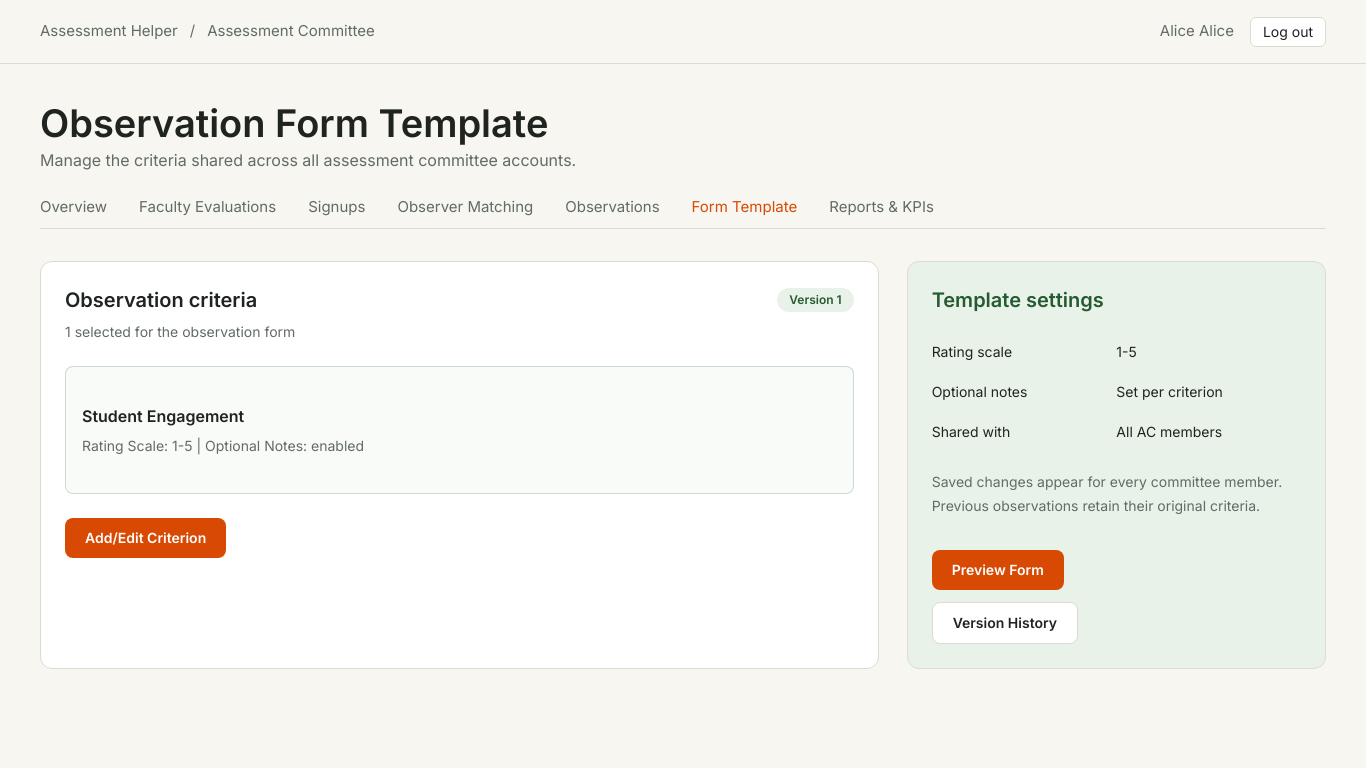
Test case: keeps unsaved edits when another committee member has saved first
Click the button "Add/Edit Criterion" at (146, 538), box [65,518,226,558]
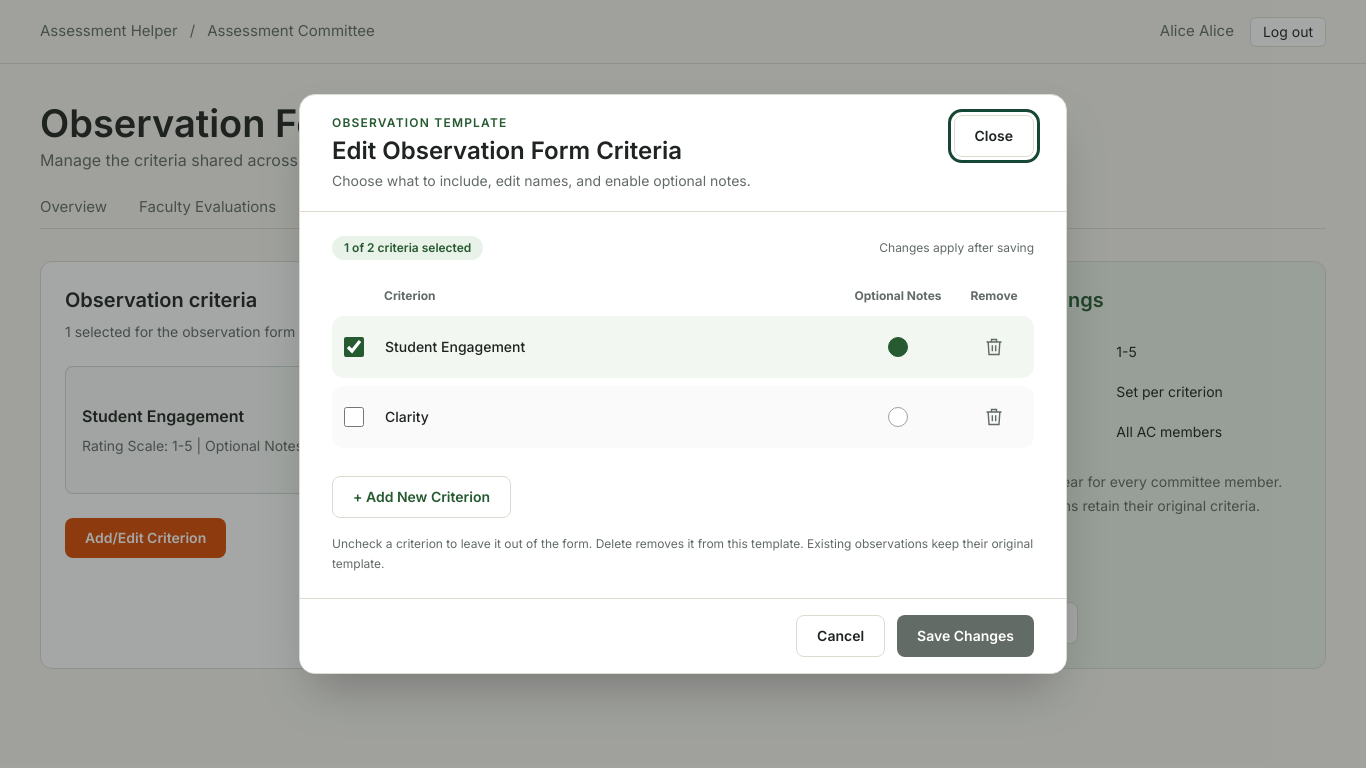
Replace the text in the field named "Criterion 1 name" with "My edit" at (609, 347), box [376,328,842,366]
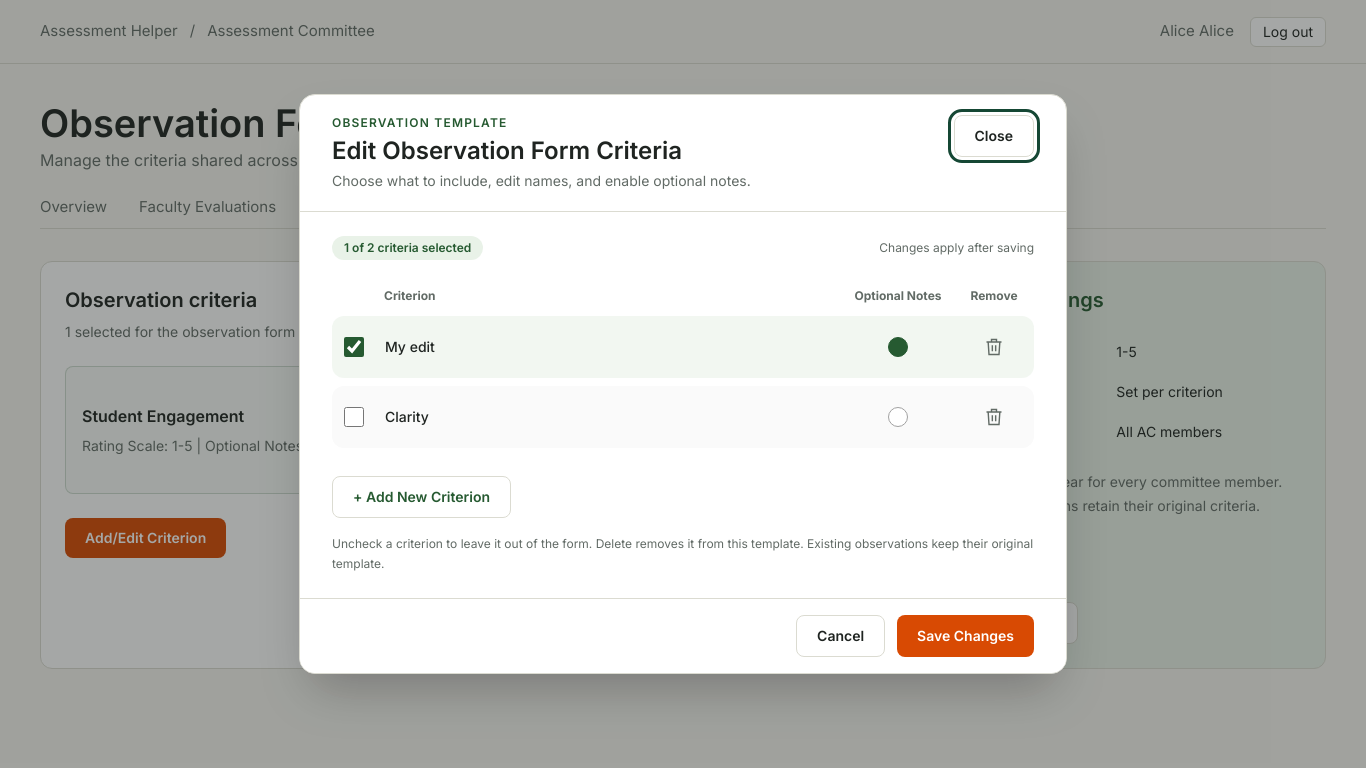
Click the button "Save Changes" at (966, 636), box [897,615,1034,657]
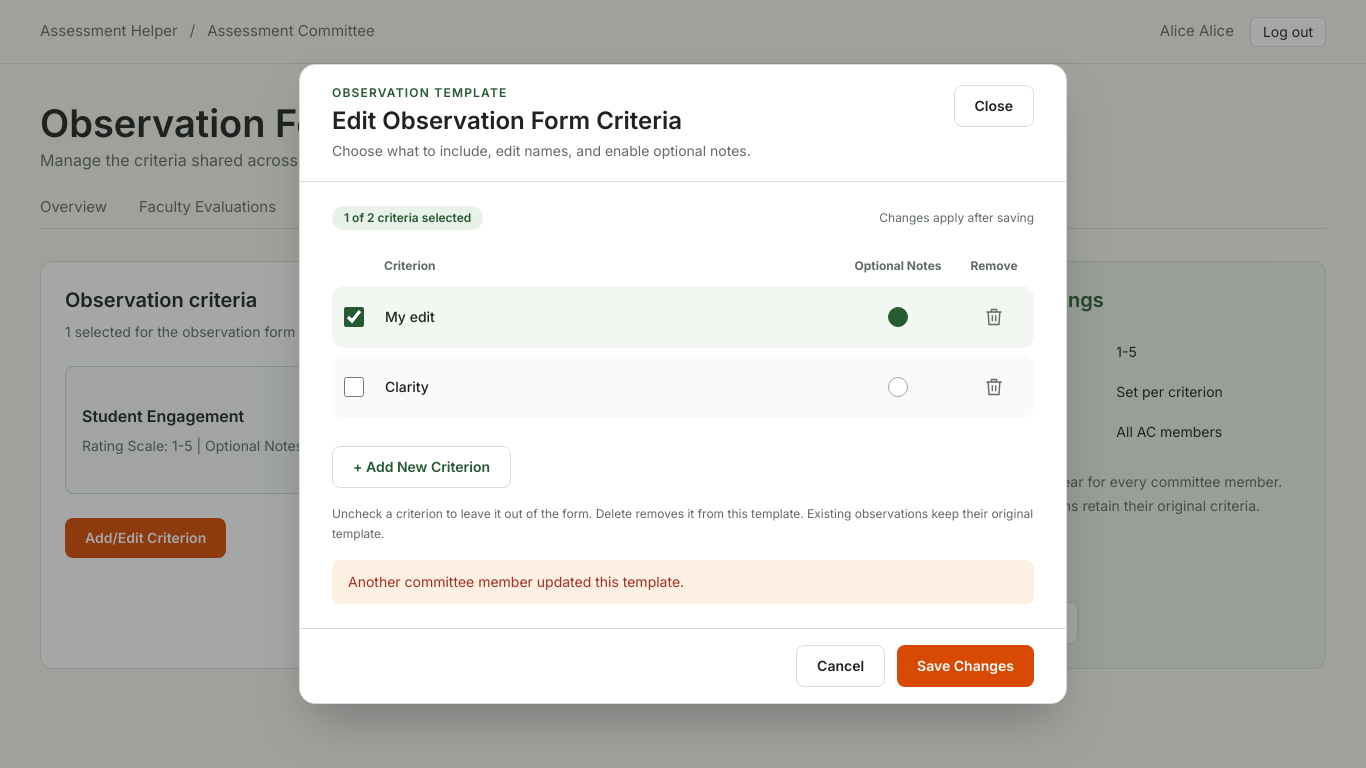
Now the message "Another committee member updated this template." is shown, box [332,560,1034,604]
